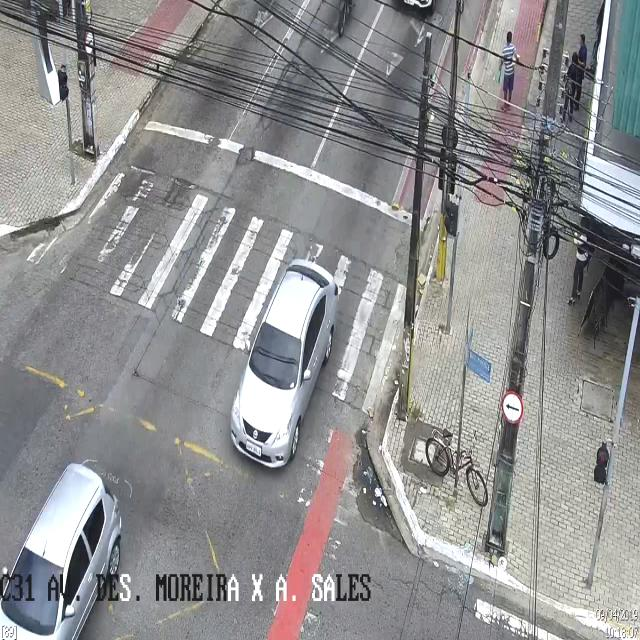Car: (230, 256, 337, 469), (3, 461, 123, 639)
Motorcycle: (326, 0, 363, 50)
